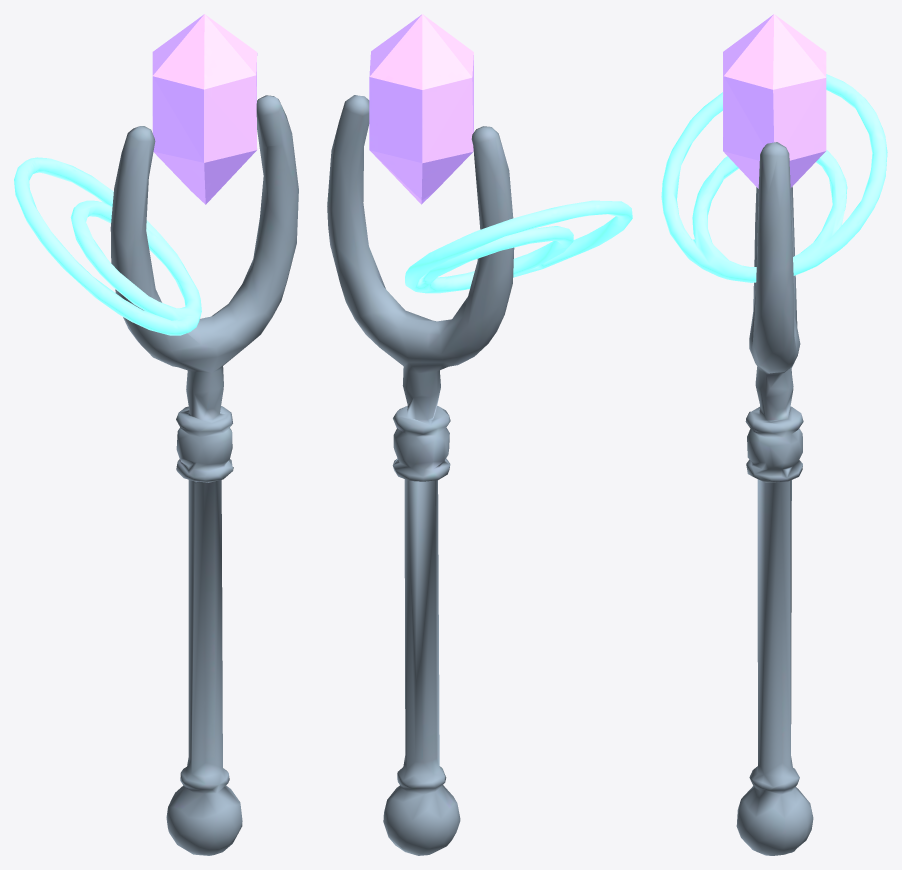
The model's file is echo-staff.glb.
3 renders of one model, left to right at view 1: azimuth 30°, elevation 25°; view 2: azimuth 150°, elevation 25°; view 3: azimuth 270°, elevation 25°, orthographic.
Parts seen in each view (by area): view 1: metal, crystal, rings; view 2: metal, crystal, rings; view 3: metal, crystal, rings.
Part boxes in pixels (x1=…): metal: x1=110, y1=95, x2=298, y2=855; crystal: x1=152, y1=14, x2=257, y2=204; rings: x1=14, y1=157, x2=201, y2=335; metal: x1=327, y1=95, x2=514, y2=855; crystal: x1=369, y1=14, x2=473, y2=204; rings: x1=405, y1=200, x2=632, y2=293; metal: x1=736, y1=142, x2=813, y2=855; crystal: x1=723, y1=14, x2=826, y2=188; rings: x1=661, y1=74, x2=887, y2=282.
Bounding box in the file's own units: 0.4285 × 1.24 × 0.3024.
3 materials, 3 textured.
